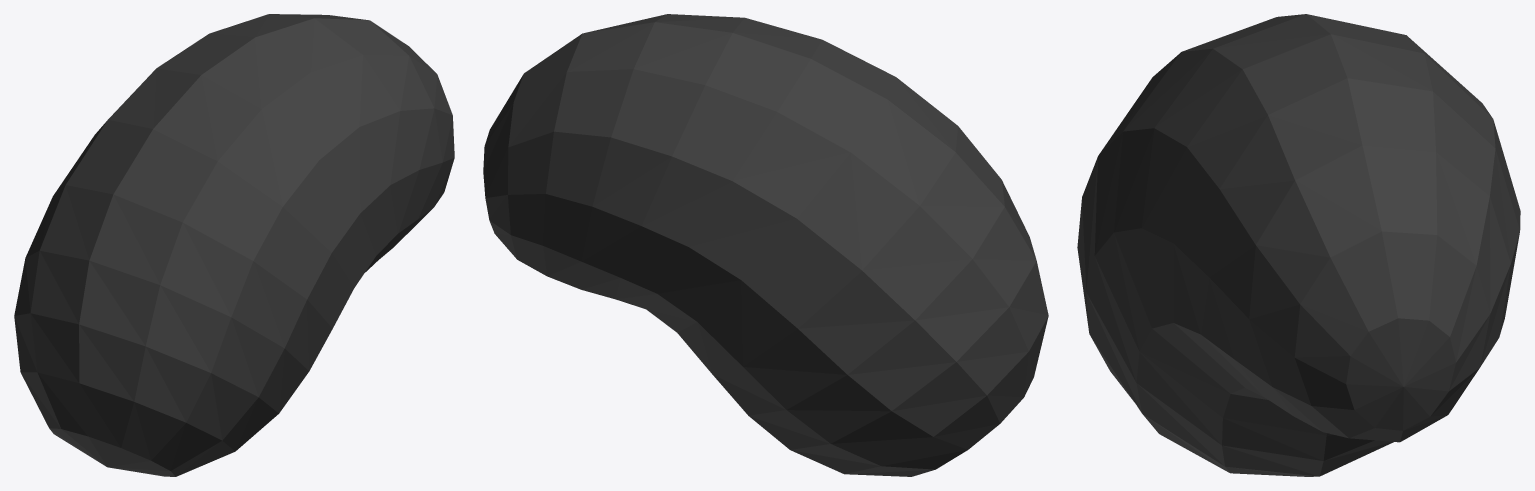
File: kidney_R_LP.glb
3 renders of one model, left to right at view 1: azimuth 30°, elevation 25°; view 2: azimuth 150°, elevation 25°; view 3: azimuth 270°, elevation 25°, orthographic. The views are drawn at different scales.
Visible parts, largest first — view 1: kidney_R_LP; view 2: kidney_R_LP; view 3: kidney_R_LP.
Part boxes in pixels (x1,y1,x2,y2): kidney_R_LP: (14,14,454,476); kidney_R_LP: (483,14,1048,476); kidney_R_LP: (1077,14,1520,476).
Size of the model in its own units: 1.16 by 0.9498 by 0.7554.
1 material, 1 textured.
